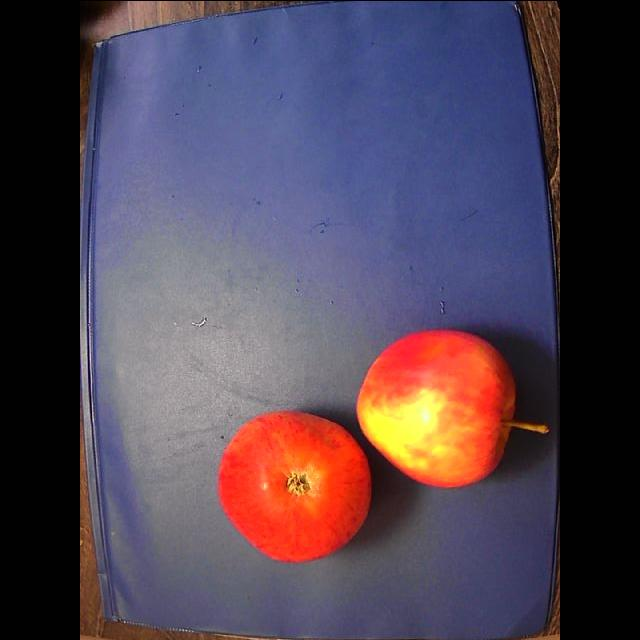manzana: (357, 330, 549, 487), (218, 410, 371, 561)
